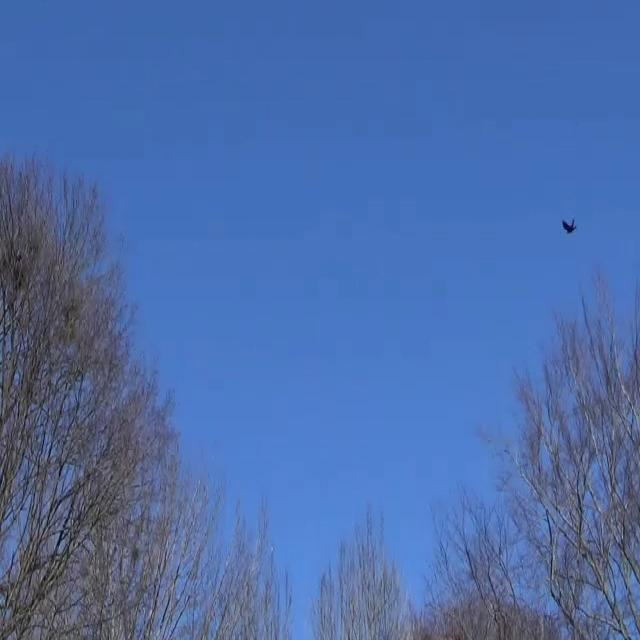bird: (554, 210, 584, 241)
